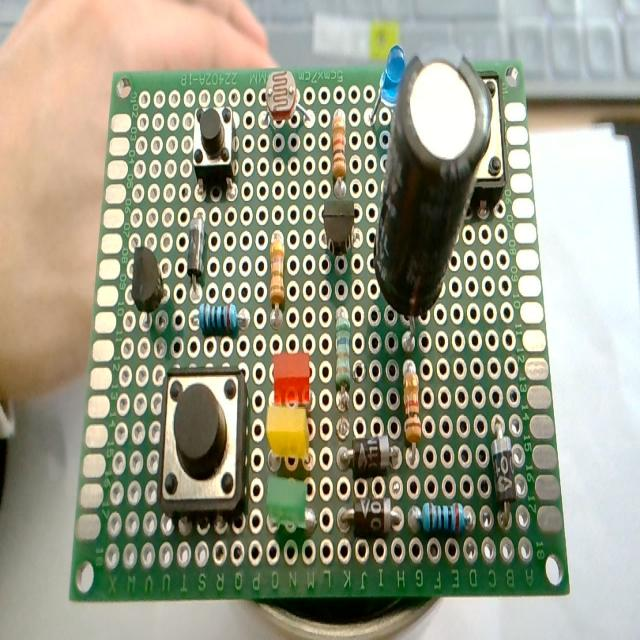Electrolytic capacitor: (368, 52, 494, 357)
cds: (260, 66, 309, 132)
diode: (475, 411, 521, 525), (340, 500, 400, 538), (341, 436, 394, 473), (187, 214, 205, 298)
led: (260, 470, 318, 556), (368, 43, 405, 129), (264, 401, 310, 460), (272, 351, 311, 407)
resistor: (334, 308, 352, 416), (417, 502, 471, 536), (403, 361, 421, 445), (198, 302, 240, 336), (269, 232, 285, 310), (332, 109, 346, 182)
switch: (436, 56, 520, 220), (158, 369, 248, 518), (192, 104, 236, 190)
transistor: (131, 244, 164, 329), (323, 200, 355, 256)
